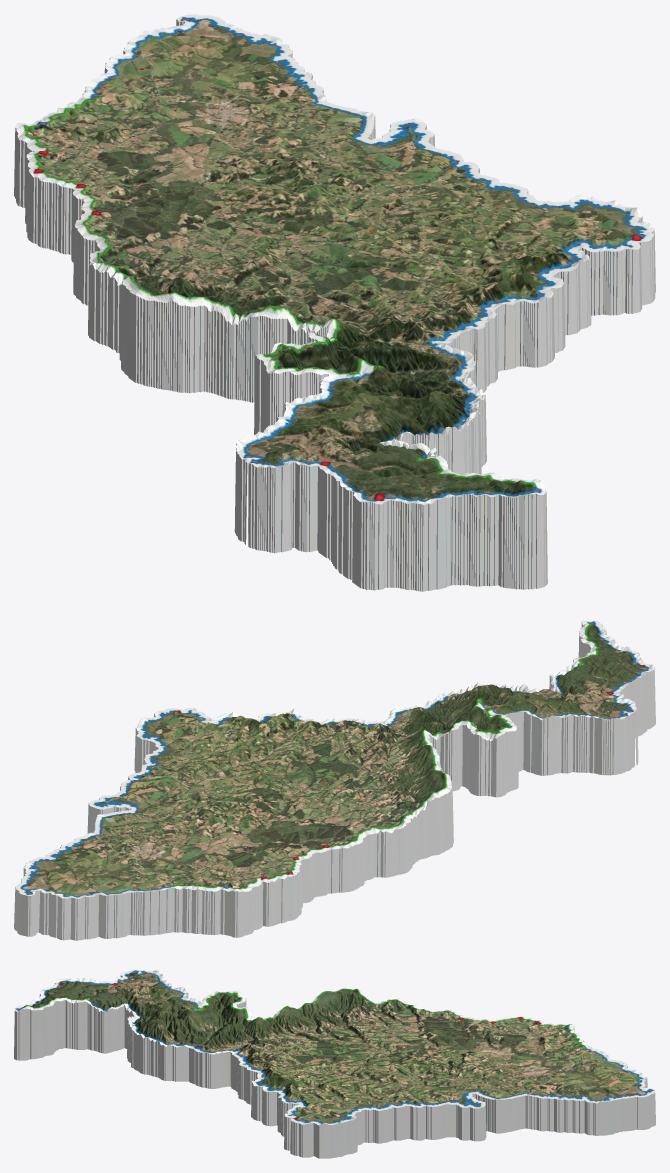
The picture shows the model from 3 angles, top to bottom: view 1: azimuth 30°, elevation 25°; view 2: azimuth 150°, elevation 25°; view 3: azimuth 270°, elevation 25°; orthographic projection. The views are drawn at different scales.
Bounding box in the file's own units: 1 × 0.1636 × 1.86.
1 material, 1 textured.
